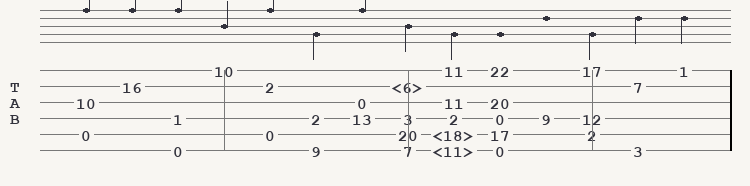0: (81, 127, 95, 141), (173, 143, 187, 157), (265, 127, 279, 141), (357, 95, 371, 109), (495, 143, 509, 157), (495, 111, 509, 125)
1: (173, 111, 187, 125), (679, 63, 693, 77)
10: (76, 95, 100, 109), (214, 63, 238, 77)
11: (444, 95, 468, 109), (444, 63, 468, 77)
12: (582, 111, 606, 125)
13: (352, 111, 376, 125)
16: (122, 79, 146, 93)
17: (490, 127, 514, 141), (582, 63, 606, 77)
2: (265, 79, 279, 93), (311, 111, 325, 125), (449, 111, 463, 125), (587, 127, 601, 141)
20: (398, 127, 422, 141), (490, 95, 514, 109)
22: (490, 63, 514, 77)
3: (403, 111, 417, 125), (633, 143, 647, 157)
7: (403, 143, 417, 157), (633, 79, 647, 93)
9: (311, 143, 325, 157), (541, 111, 555, 125)
harmonic: (433, 143, 478, 157), (433, 127, 478, 141), (392, 79, 427, 93)
